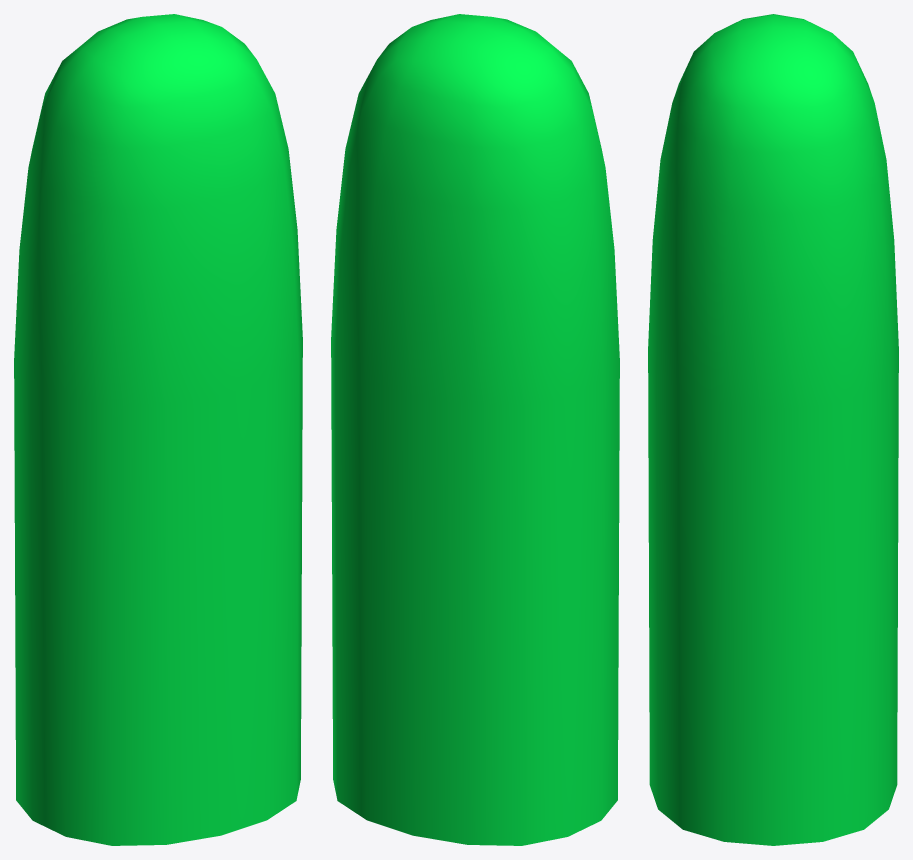
Rendered from Oden_Bubble_Model.gltf.
3 views of the same model, side by side, from view 1: azimuth 30°, elevation 25°; view 2: azimuth 150°, elevation 25°; view 3: azimuth 270°, elevation 25° (orthographic).
Parts seen in each view (by area): view 1: Oden_Bubble_Model; view 2: Oden_Bubble_Model; view 3: Oden_Bubble_Model.
Part boxes in pixels (<box>): Oden_Bubble_Model: <box>14,14,302,845</box>; Oden_Bubble_Model: <box>331,14,619,845</box>; Oden_Bubble_Model: <box>648,14,898,845</box>.
Size of the model in its own units: 5.63 by 16.14 by 4.84.
